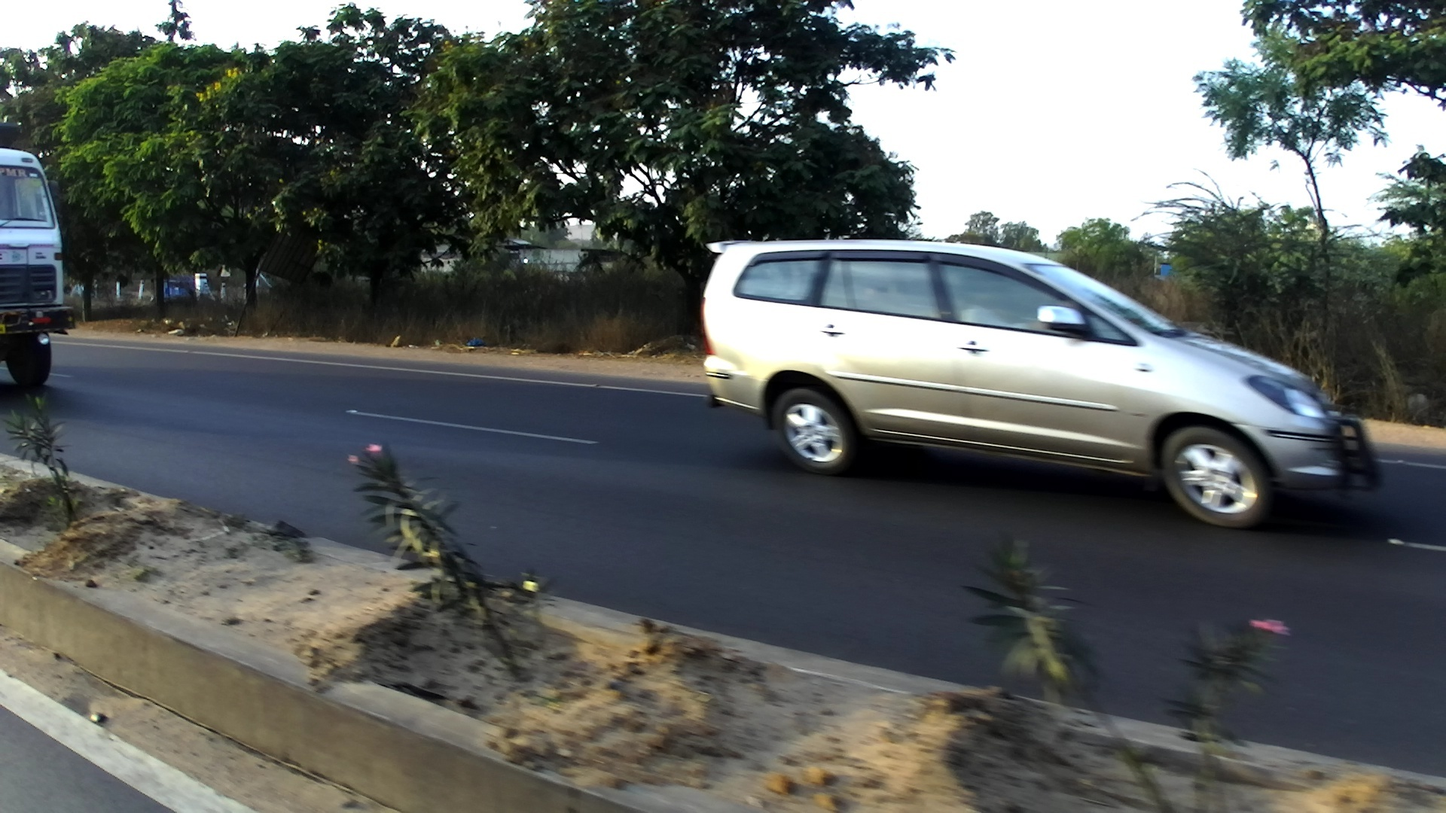car: (700, 236, 1384, 531)
truck: (1, 115, 74, 389)
